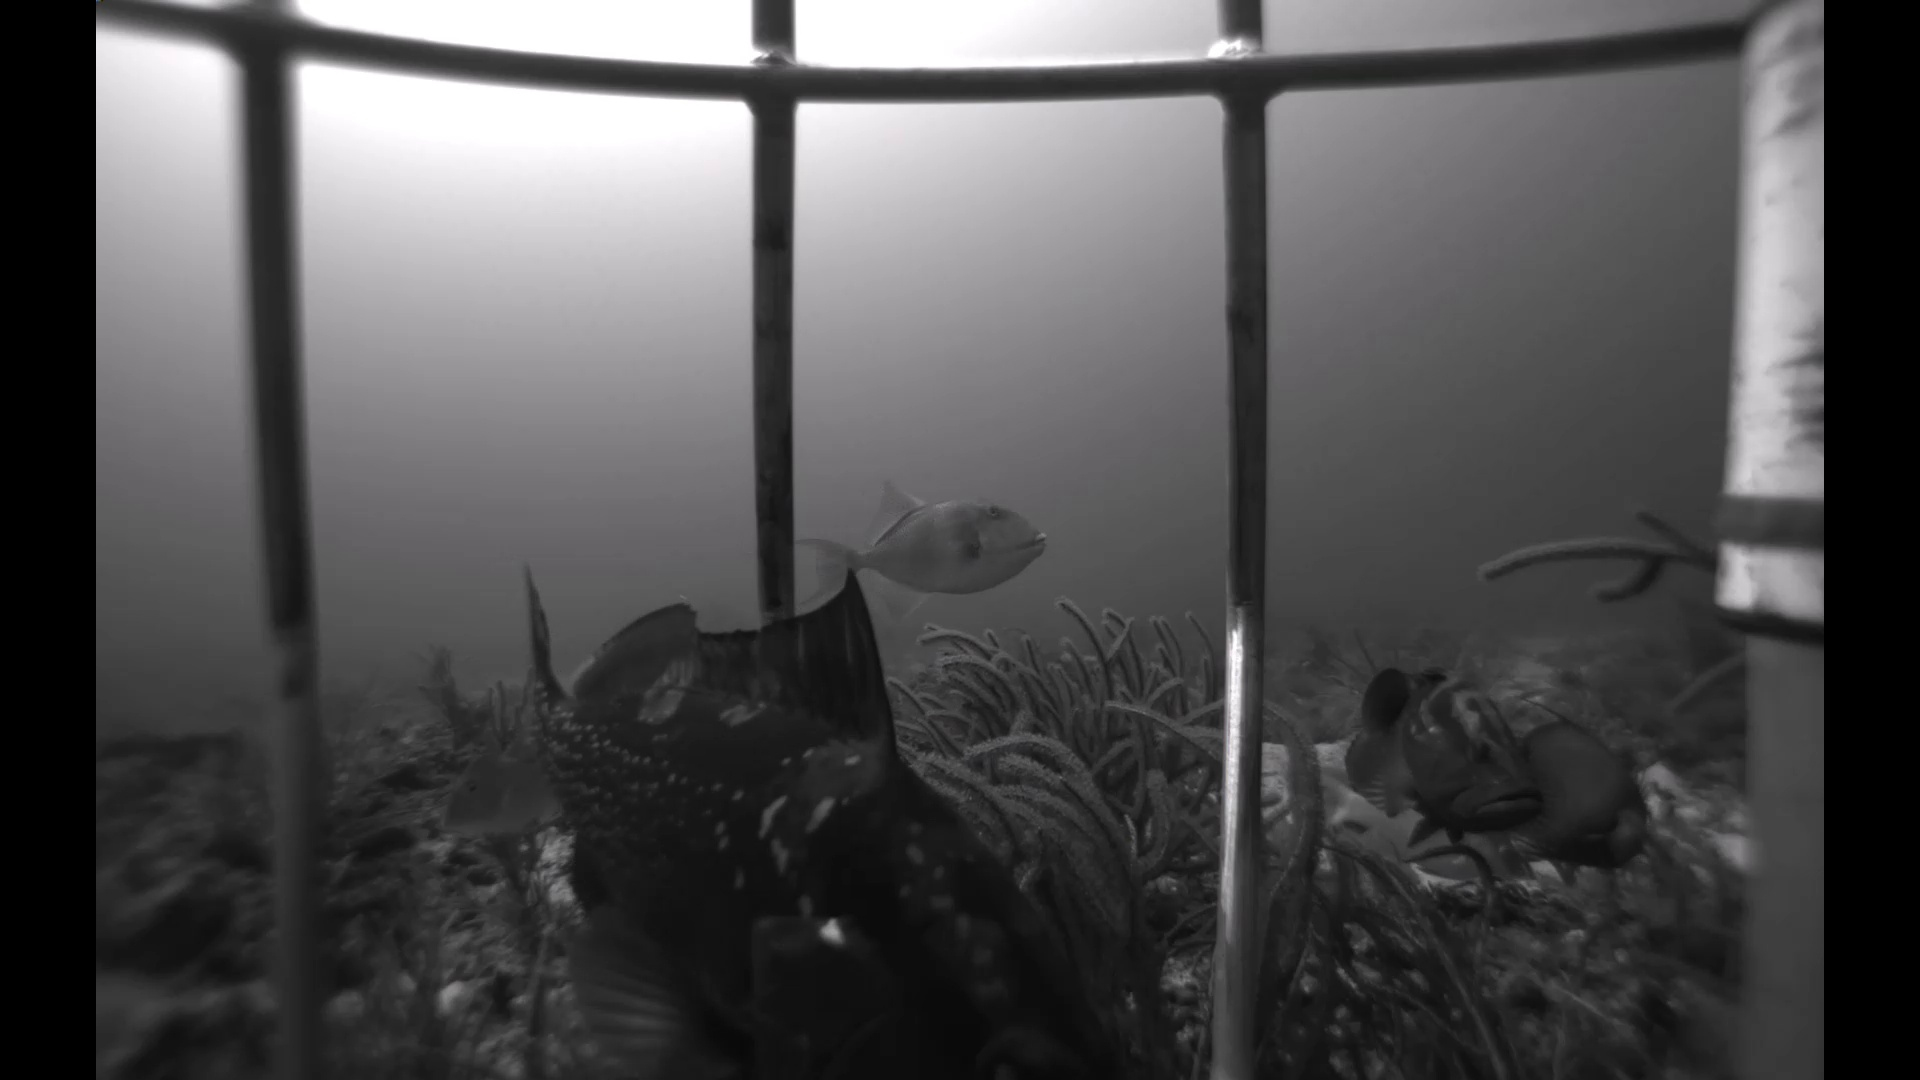BALISTESCAPRISCUS-189030502: (789, 473, 1056, 609)
CALAMUSNODOSUS-170210608: (429, 736, 574, 862)
EPINEPHELUSMORIO-170021211: (435, 520, 1120, 1073), (1338, 654, 1556, 855)
LACHNOLAIMUSMAXIMUS-170281801: (1298, 752, 1522, 887)
LUTJANUSGRISEUS-170151109: (1667, 582, 1749, 721)
POMACANTHUSARCUATUS-170290201: (1495, 674, 1655, 876)
